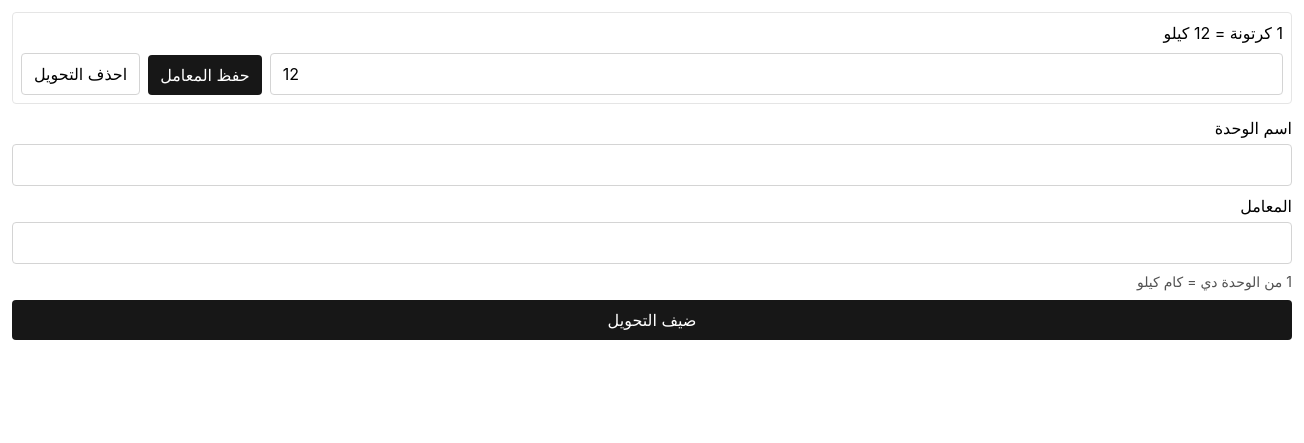
ConversionsPanel › shows a reload error and retry when refreshing after a save fails
Expected: the text "1 كرتونة = 12 كيلو" is shown, 1163,23 -> 1283,43
Type "كيس" into the field labelled "اسم الوحدة" at (652, 165), box 12,144 -> 1292,186
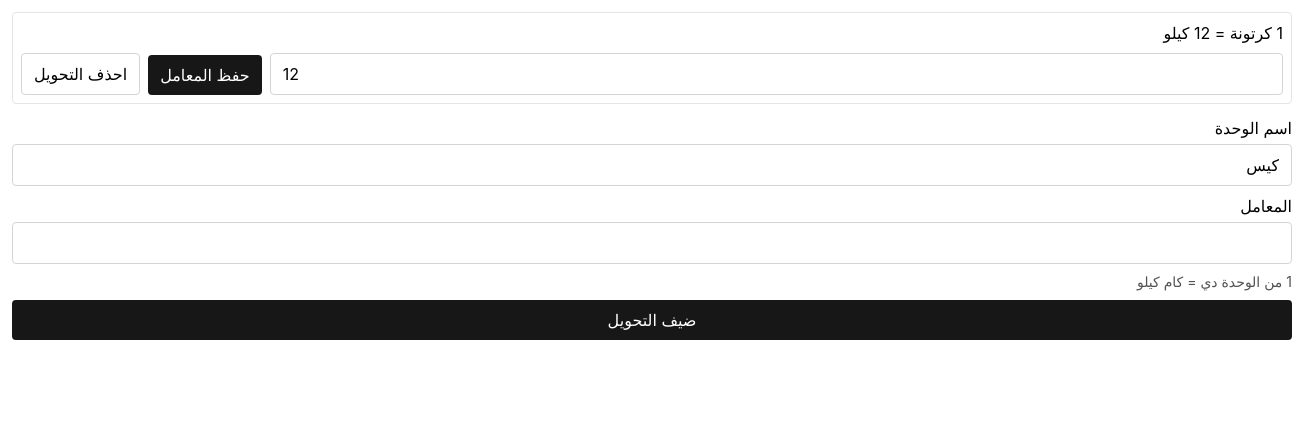
Type "2" into the field labelled "المعامل" at (652, 243), box 12,222 -> 1292,264
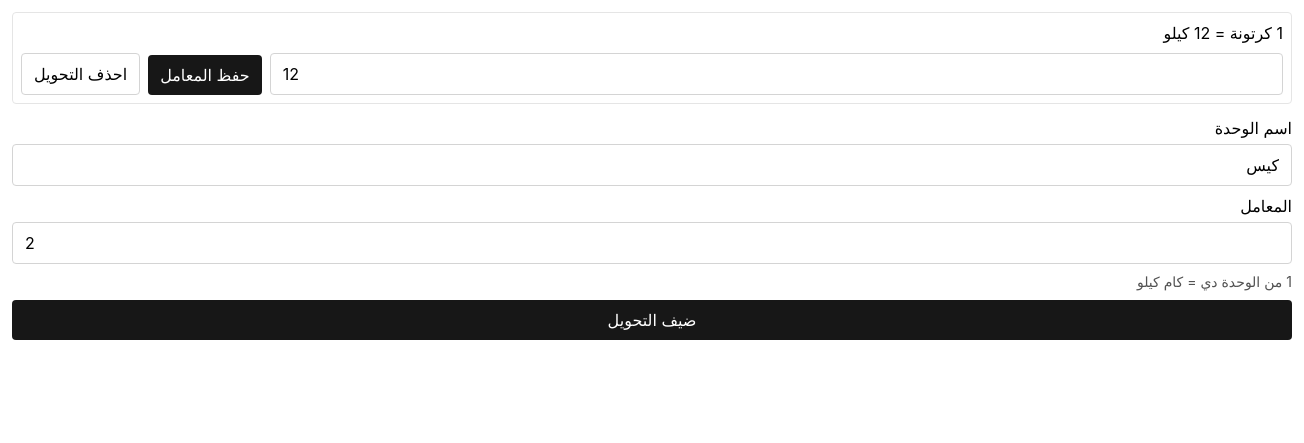
Click the button "ضيف التحويل" at (652, 320), box 12,300 -> 1292,340
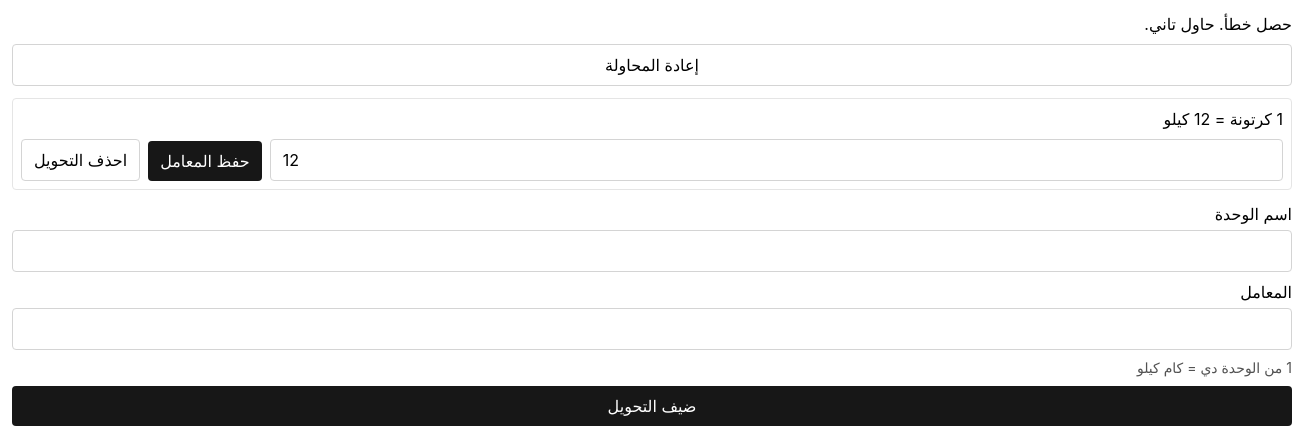
Expected: the text "1 كرتونة = 12 كيلو" is shown, 1163,109 -> 1283,129
Expected: the message reads "حصل خطأ. حاول تاني.", 1144,14 -> 1292,34
Expected: the button "إعادة المحاولة" is shown, 12,44 -> 1292,86
